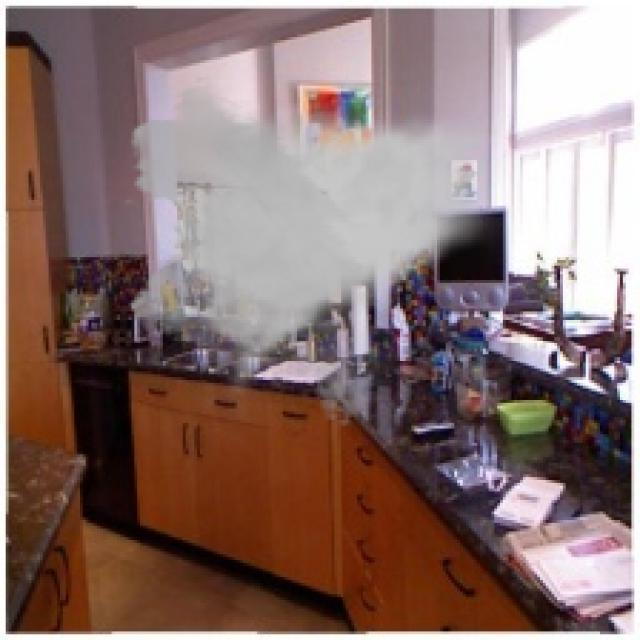smoke: (120, 74, 503, 429)
